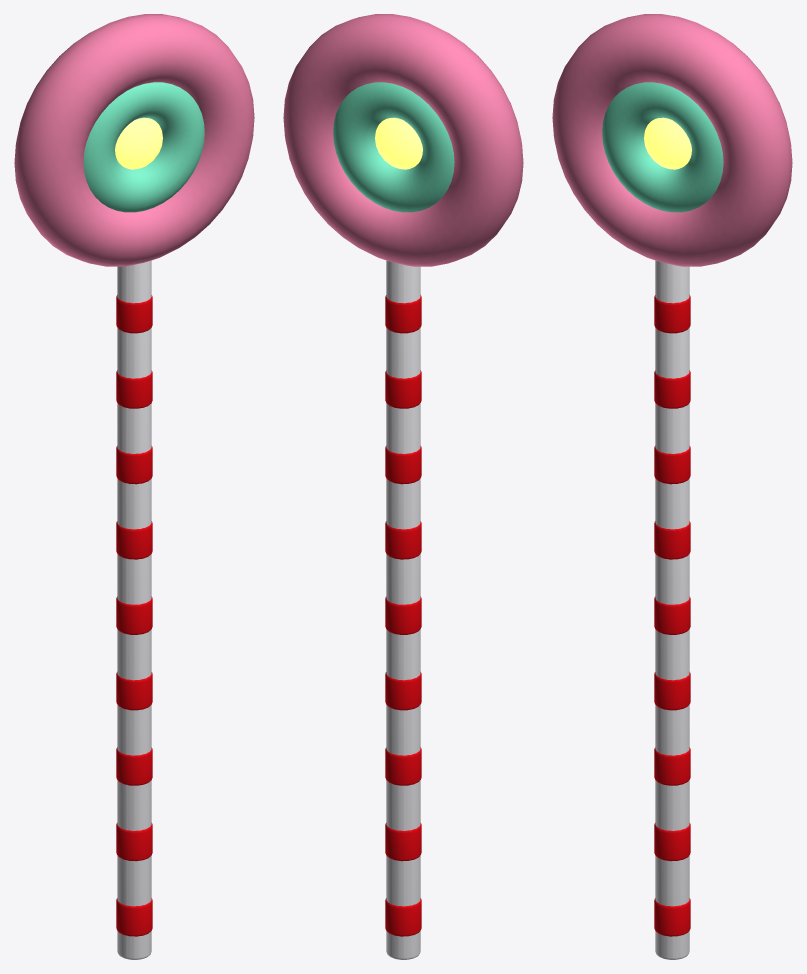
The model's file is LollipopLamp.glb.
The picture shows the model from 3 angles, left to right: view 1: azimuth 30°, elevation 25°; view 2: azimuth 150°, elevation 25°; view 3: azimuth 330°, elevation 25°; orthographic projection.
Parts seen in each view (by area): view 1: Torus, Cylinder, Torus.001, Sphere, Cylinder.005, Cylinder.004, Cylinder.001, Cylinder.002, Cylinder.009, Cylinder.008, Cylinder.003, Cylinder.006 (+1 smaller); view 2: Torus, Cylinder, Torus.001, Sphere, Cylinder.005, Cylinder.004, Cylinder.001, Cylinder.002, Cylinder.008, Cylinder.009, Cylinder.003, Cylinder.006 (+1 smaller); view 3: Torus, Cylinder, Torus.001, Sphere, Cylinder.005, Cylinder.004, Cylinder.001, Cylinder.002, Cylinder.008, Cylinder.009, Cylinder.003, Cylinder.006 (+1 smaller).
Part boxes in pixels (bbox=[...]): Torus: bbox=[14, 14, 254, 266]; Cylinder: bbox=[117, 260, 151, 959]; Torus.001: bbox=[83, 82, 204, 212]; Sphere: bbox=[115, 117, 162, 169]; Cylinder.005: bbox=[116, 596, 152, 634]; Cylinder.004: bbox=[116, 672, 152, 710]; Cylinder.001: bbox=[116, 898, 152, 936]; Cylinder.002: bbox=[116, 823, 152, 861]; Cylinder.009: bbox=[116, 295, 152, 333]; Cylinder.008: bbox=[116, 370, 152, 408]; Cylinder.003: bbox=[116, 747, 152, 785]; Cylinder.006: bbox=[116, 521, 152, 559]; Torus: bbox=[283, 14, 523, 266]; Cylinder: bbox=[386, 260, 420, 959]; Torus.001: bbox=[333, 82, 454, 212]; Sphere: bbox=[375, 117, 422, 169]; Cylinder.005: bbox=[385, 596, 421, 634]; Cylinder.004: bbox=[385, 672, 421, 710]; Cylinder.001: bbox=[385, 898, 421, 936]; Cylinder.002: bbox=[385, 823, 421, 861]; Cylinder.008: bbox=[385, 370, 421, 408]; Cylinder.009: bbox=[385, 295, 421, 333]; Cylinder.003: bbox=[385, 747, 421, 785]; Cylinder.006: bbox=[385, 521, 421, 559]; Torus: bbox=[552, 14, 792, 266]; Cylinder: bbox=[655, 260, 689, 959]; Torus.001: bbox=[602, 82, 723, 212]; Sphere: bbox=[644, 117, 691, 169]; Cylinder.005: bbox=[654, 596, 690, 634]; Cylinder.004: bbox=[654, 672, 690, 710]; Cylinder.001: bbox=[654, 898, 690, 936]; Cylinder.002: bbox=[654, 823, 690, 861]; Cylinder.008: bbox=[654, 370, 690, 408]; Cylinder.009: bbox=[654, 295, 690, 333]; Cylinder.003: bbox=[654, 747, 690, 785]; Cylinder.006: bbox=[654, 521, 690, 559].
Bounding box in the file's own units: 1.22 × 4.71 × 0.32.
